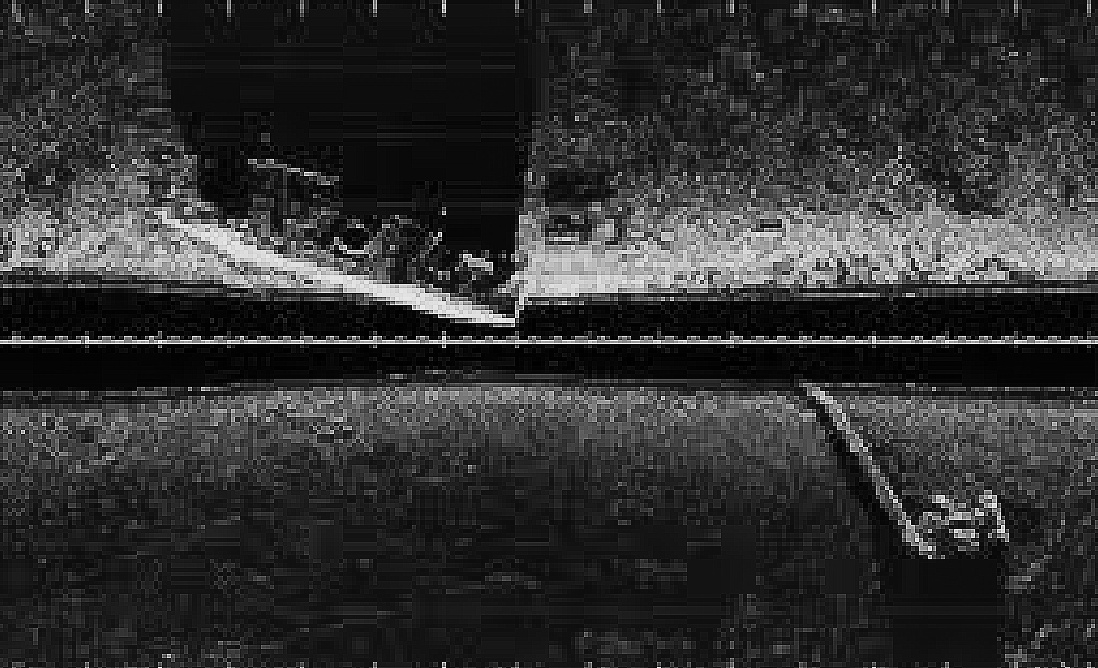ship: (171, 132, 525, 331)
